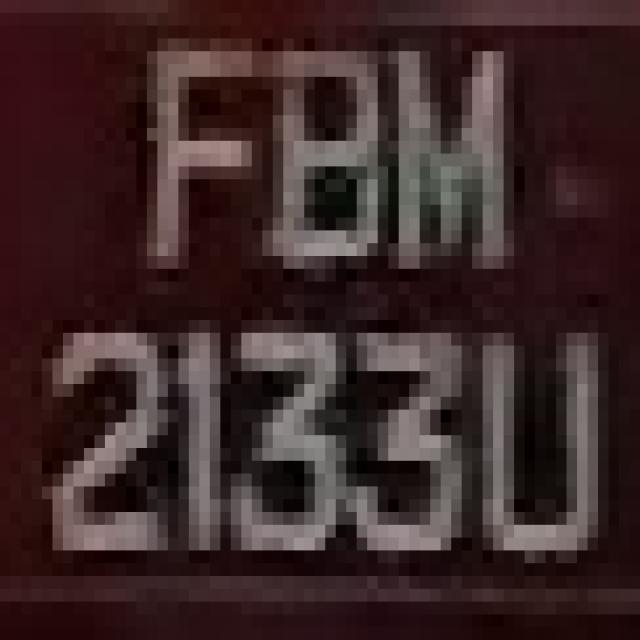1: (168, 320, 231, 589)
2: (21, 307, 189, 602)
3: (210, 282, 346, 588), (325, 307, 451, 563)
B: (241, 26, 399, 307)
F: (126, 25, 252, 282)
M: (378, 13, 535, 307)
U: (483, 320, 619, 563)
